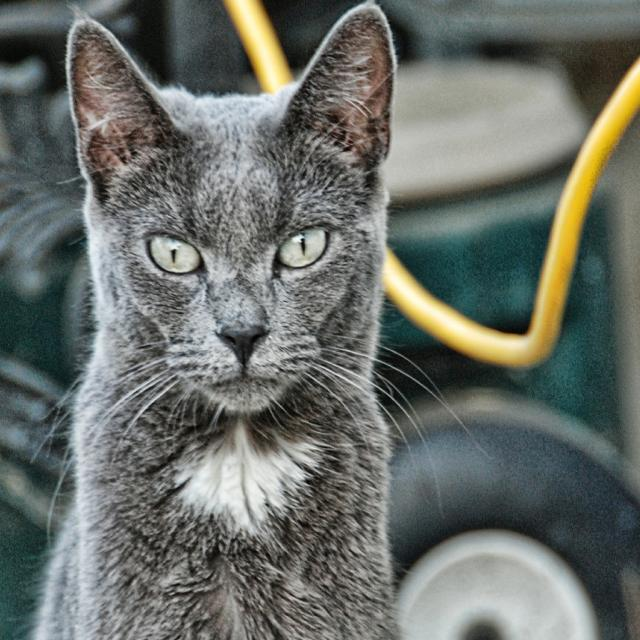Cat: (6, 0, 496, 639)
